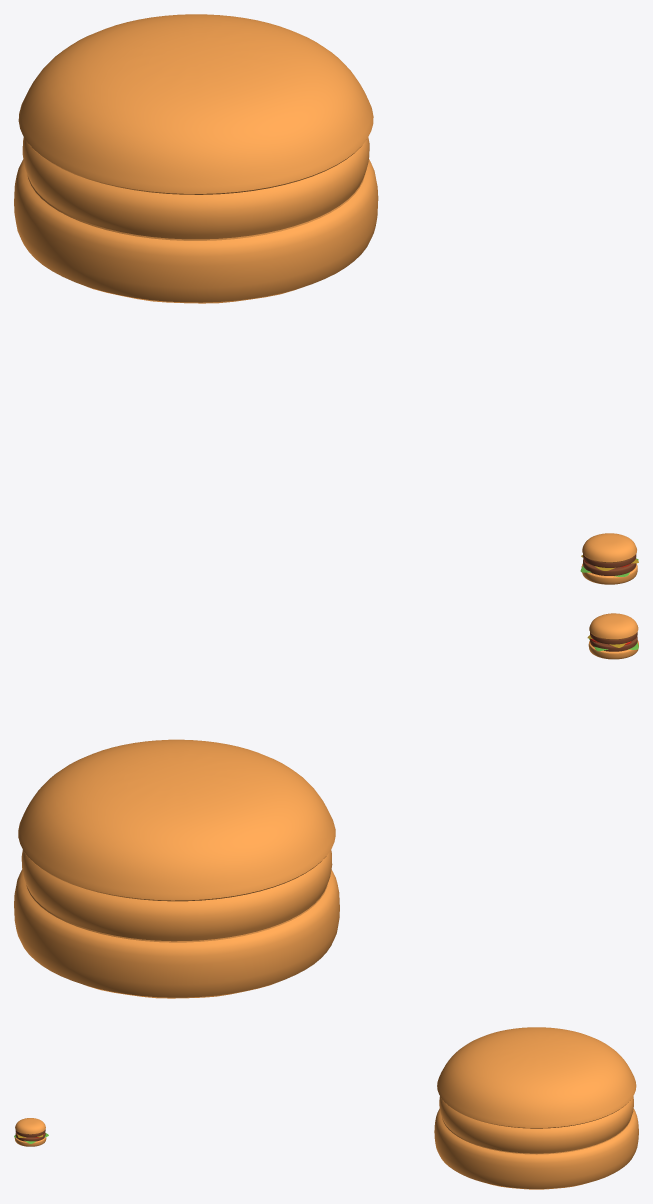
File: burger.fbx
3 views of the same model, one above another, from view 1: azimuth 30°, elevation 25°; view 2: azimuth 150°, elevation 25°; view 3: azimuth 270°, elevation 25° (orthographic). The views are drawn at different scales.
Visible parts, largest first — view 1: Cylinder, Cylinder.003; view 2: Cylinder, Cylinder.003; view 3: Cylinder, Cylinder.003.
Boxes of the visible parts, <box> form: Cylinder: <box>14,14,378,303</box>; Cylinder.003: <box>582,533,636,562</box>; Cylinder: <box>14,739,339,998</box>; Cylinder.003: <box>589,613,638,639</box>; Cylinder: <box>434,1027,638,1189</box>; Cylinder.003: <box>15,1118,45,1134</box>.
Size of the model in its own units: 194 by 109 by 593.
